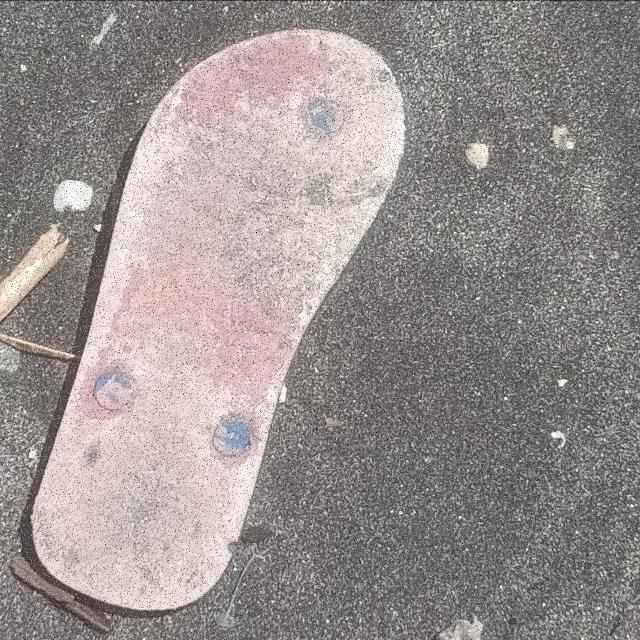rubber_waste: (31, 29, 407, 613)
